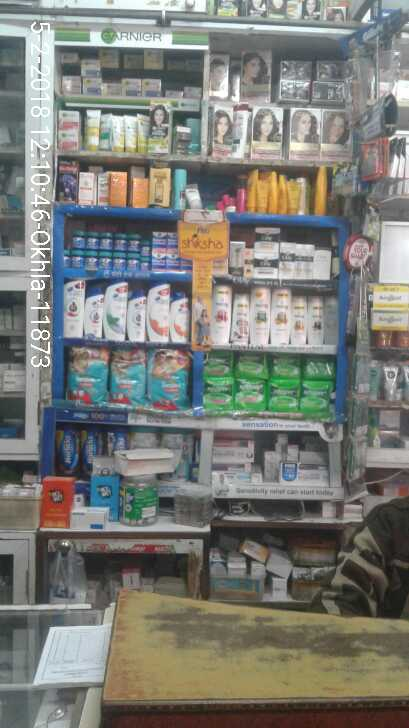vicks: (62, 223, 181, 271)
